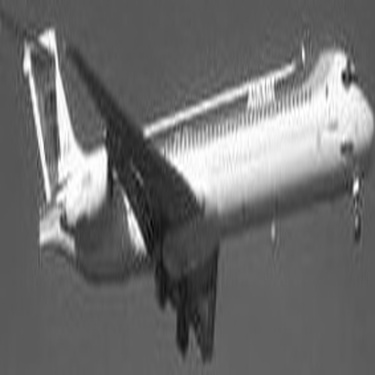airplane: (3, 2, 371, 372)
